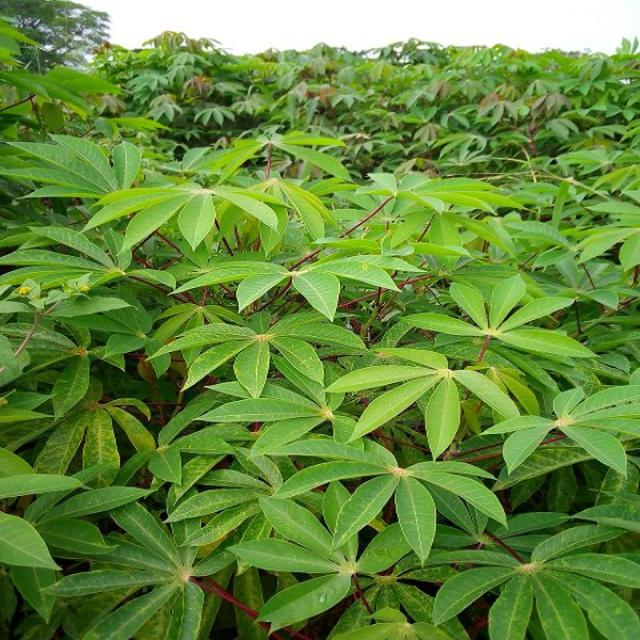cassava leaf: (2, 31, 640, 638)
